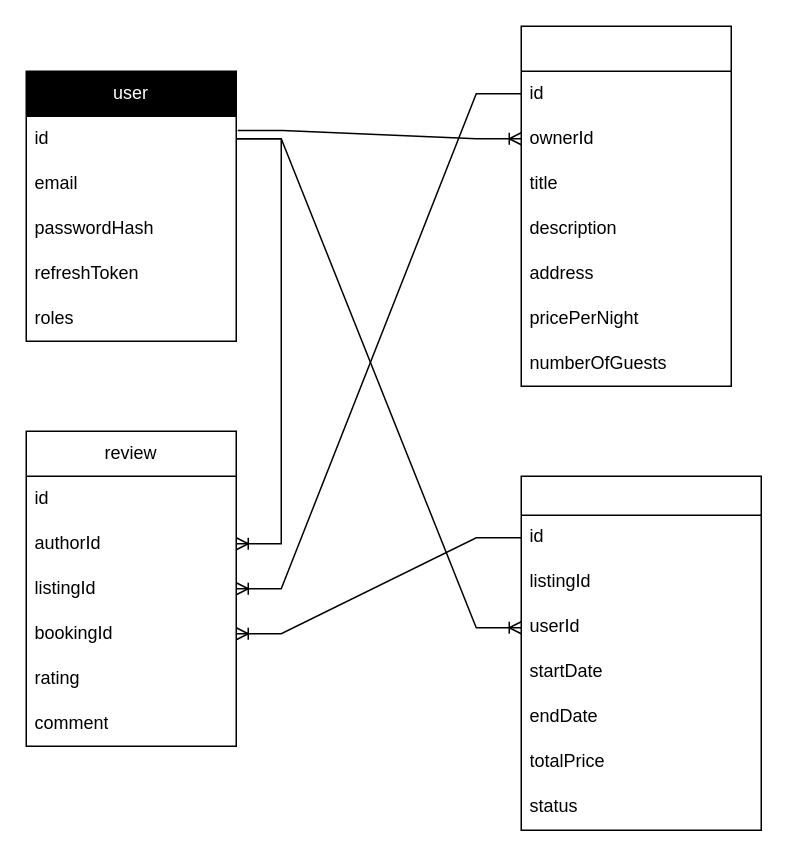
The diagram is 788 pixels wide and 861 high, and some of its shapes have lost their labels. The box of each missing label's shape, as (x1, y1, x2, y2) in pixels:
booking: (520, 475, 761, 830)
listing: (520, 25, 731, 386)
